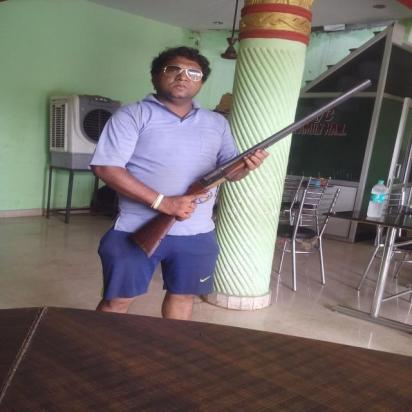Gun: (124, 74, 377, 260)
